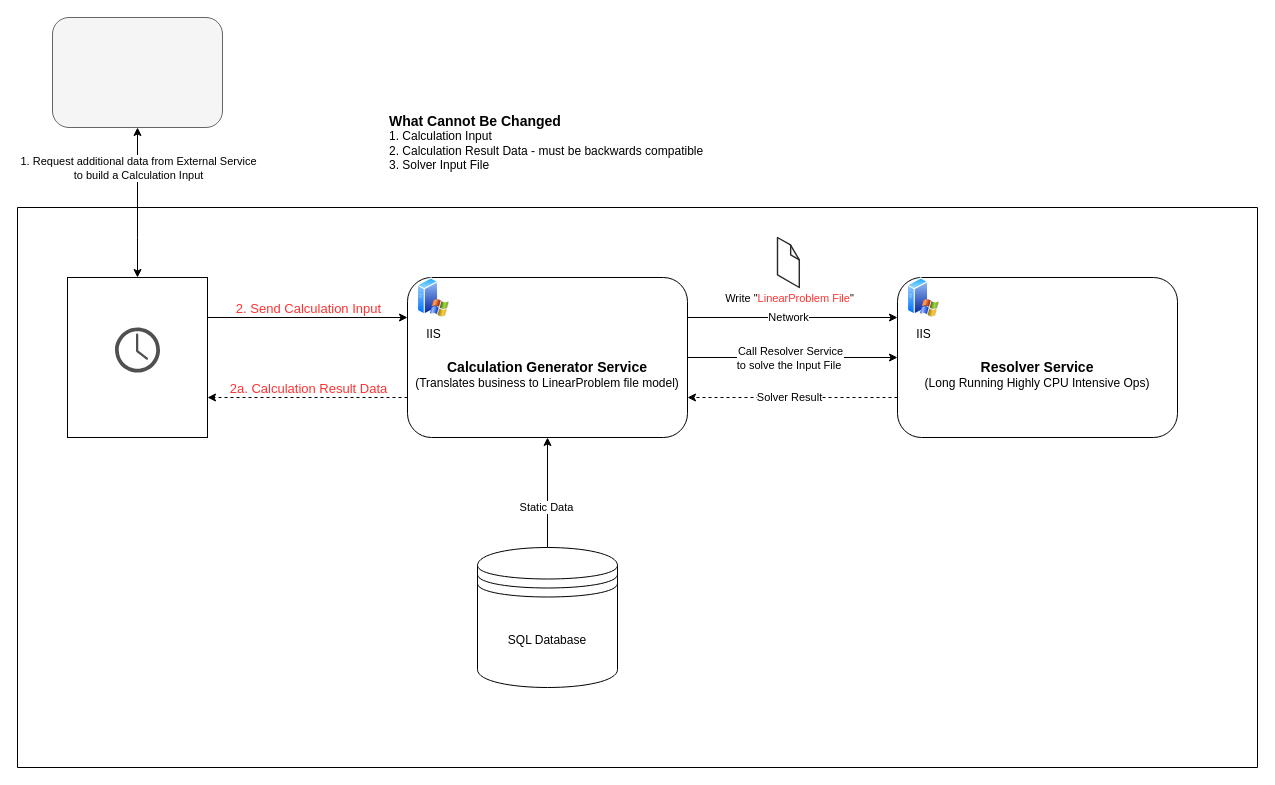
This 1275x785 diagram has some shape labels left out. Here are the shapes that lost their labels. From the top down, the box of each, then its label:
(52, 16, 222, 128): External Service
(114, 327, 160, 372): Task Scheduler 3. Generate Reports
